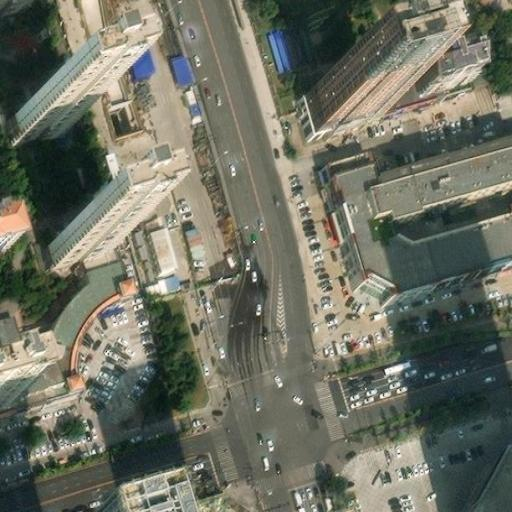building: (322, 145, 512, 306), (0, 239, 133, 407), (365, 32, 473, 100), (303, 62, 378, 120), (463, 434, 512, 512), (99, 471, 191, 512), (12, 87, 76, 129), (53, 216, 118, 257), (411, 44, 469, 87), (264, 21, 306, 75), (150, 222, 180, 267), (123, 49, 159, 84), (165, 51, 195, 88), (181, 223, 207, 265), (142, 272, 179, 299), (0, 363, 19, 395)
